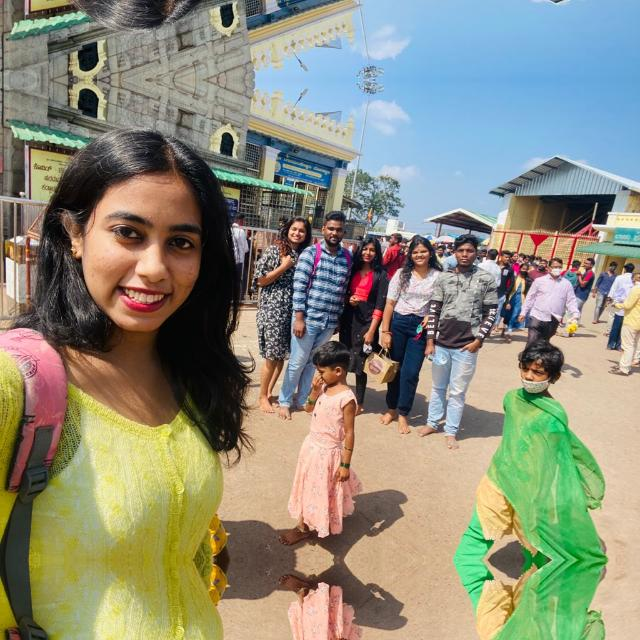person: (38, 140, 220, 560), (502, 354, 606, 560), (302, 346, 394, 560), (38, 560, 219, 640), (448, 240, 500, 440), (501, 560, 606, 640), (268, 203, 312, 389), (395, 238, 439, 410), (302, 560, 394, 640), (310, 215, 350, 391), (352, 226, 382, 400), (38, 0, 219, 19), (534, 256, 564, 370), (622, 274, 640, 380)
